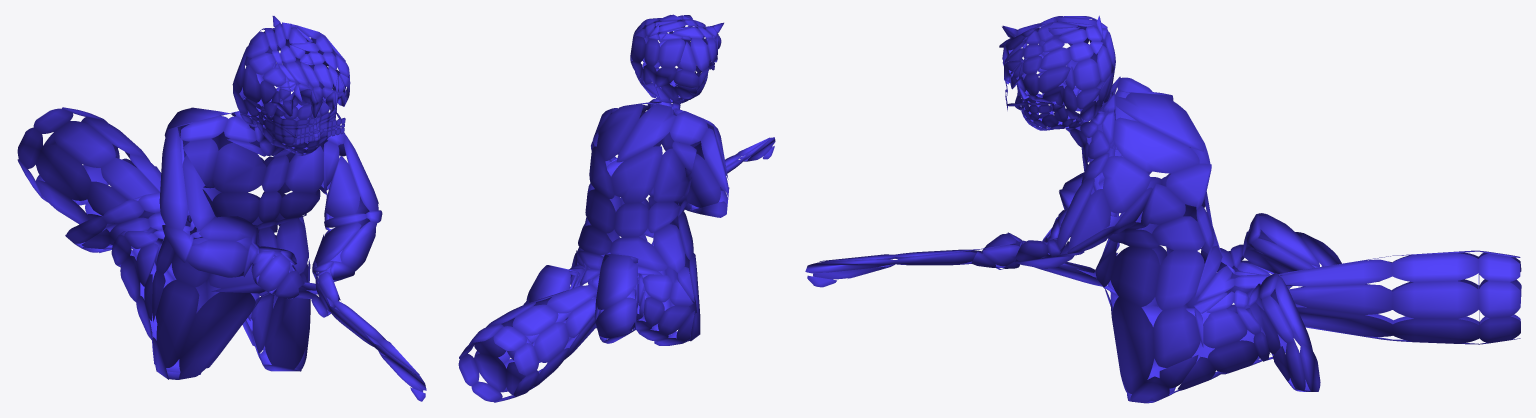
3 renders of one model, left to right at view 1: azimuth 30°, elevation 25°; view 2: azimuth 150°, elevation 25°; view 3: azimuth 270°, elevation 25°, orthographic. The views are drawn at different scales.
Visible parts, largest first — view 1: T1L9M003_9; view 2: T1L9M003_9; view 3: T1L9M003_9.
Boxes of the visible parts, x1,y1,x2,y2 form: T1L9M003_9: (17, 16, 426, 401); T1L9M003_9: (458, 14, 775, 402); T1L9M003_9: (805, 15, 1521, 403).
Bounding box in the file's own units: 0.502 × 0.9614 × 1.68.
